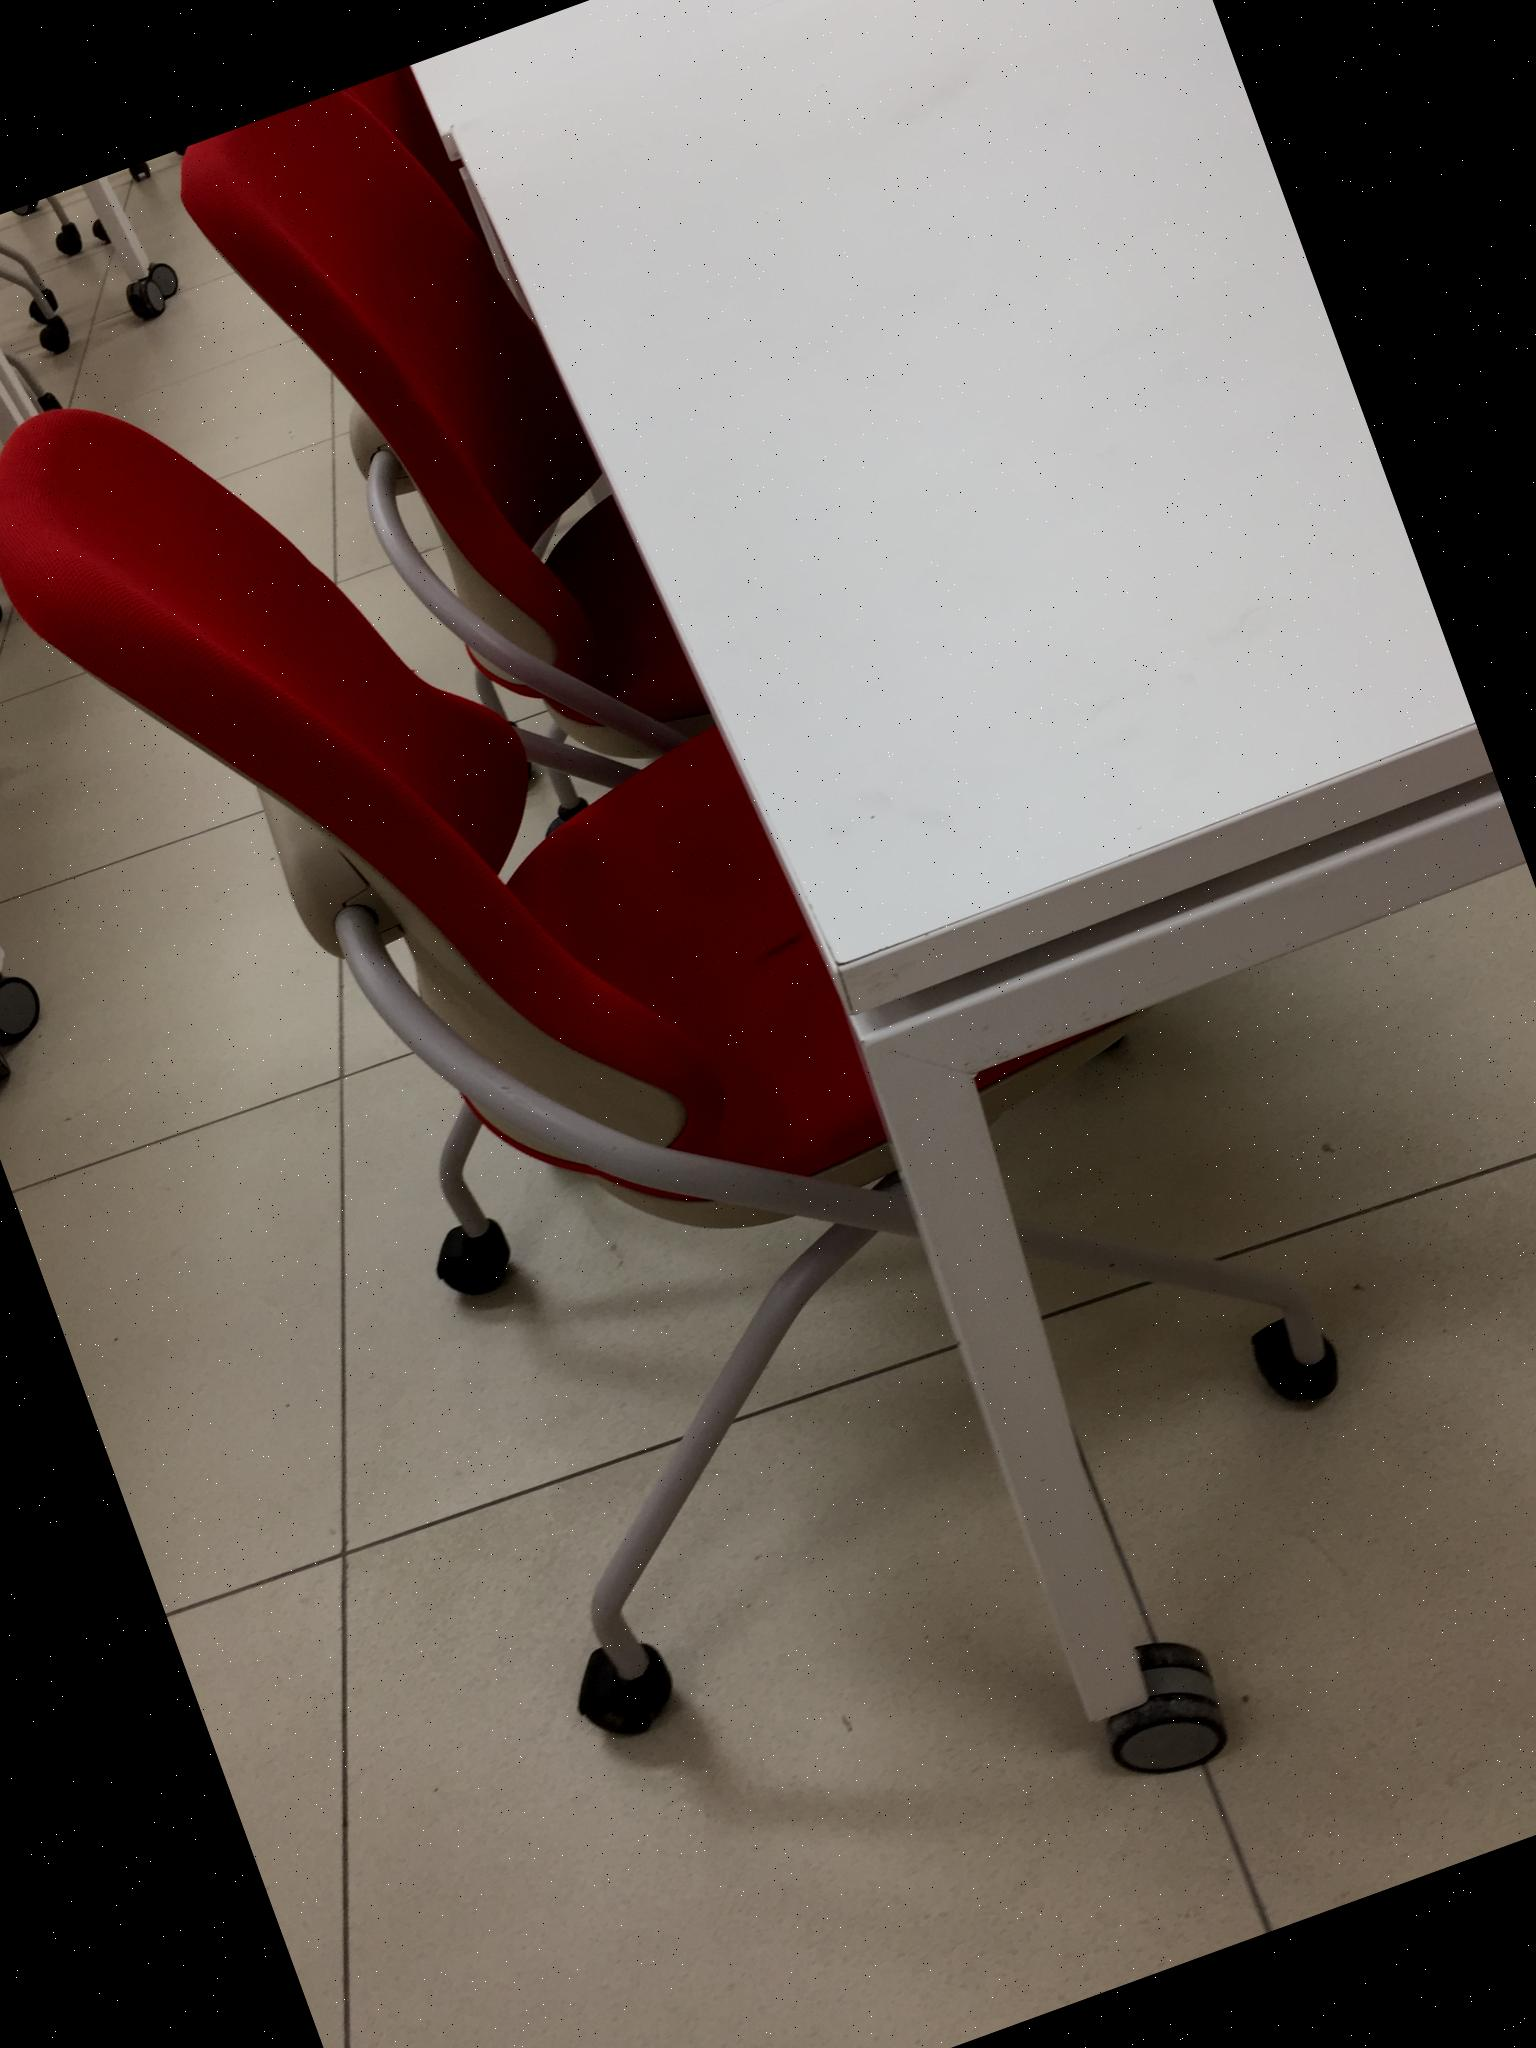chair: (0, 97, 1420, 1888), (189, 0, 904, 977), (0, 195, 177, 671), (0, 645, 98, 1151)
